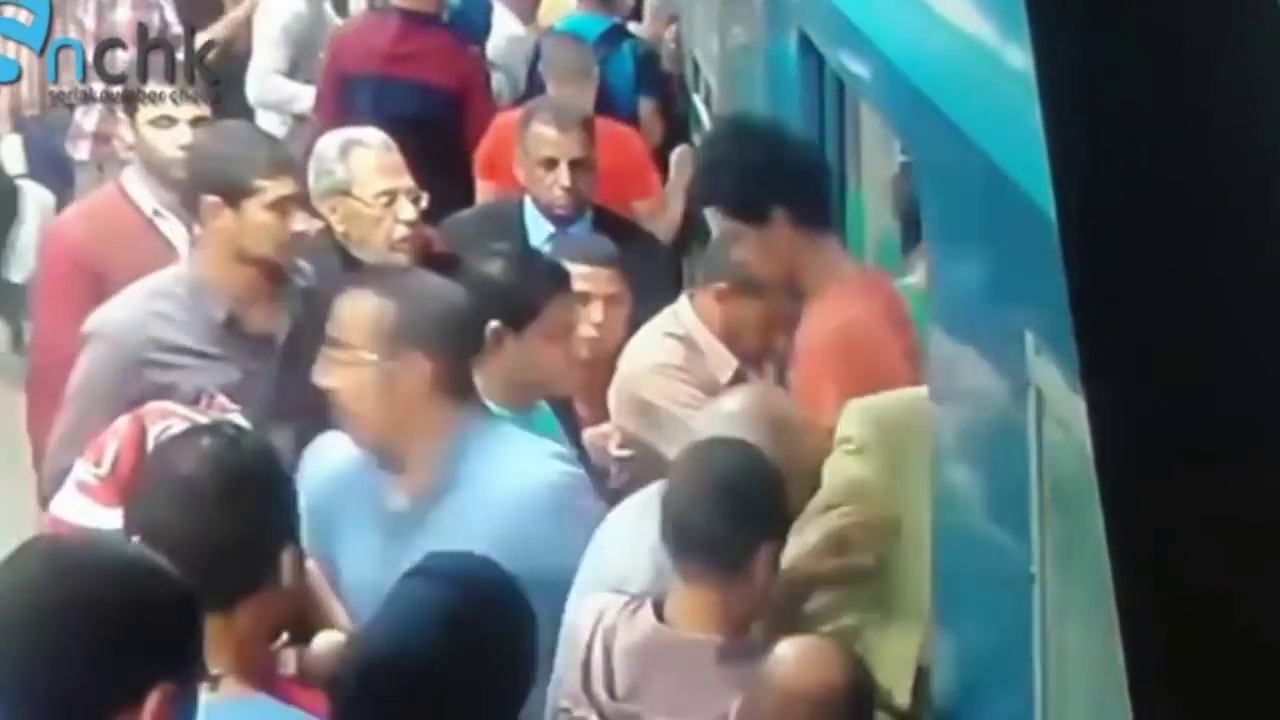face: (337, 163, 423, 262), (321, 312, 381, 429), (235, 182, 306, 264), (570, 272, 633, 352), (522, 134, 589, 209), (130, 100, 199, 171)
